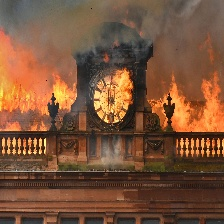fire: (2, 29, 224, 154)
smoke: (29, 1, 224, 77)
